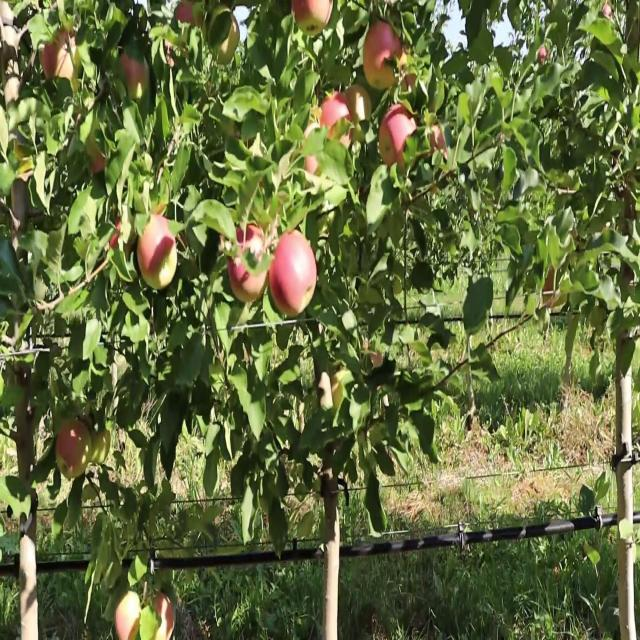apple: (272, 234, 319, 320), (228, 220, 269, 308), (136, 213, 178, 290), (364, 21, 403, 92), (380, 106, 418, 169), (40, 28, 80, 80), (320, 92, 353, 149), (56, 419, 89, 475), (48, 28, 81, 80), (212, 14, 241, 68), (120, 49, 151, 98), (296, 0, 332, 41), (56, 28, 82, 80), (116, 590, 143, 639), (292, 0, 328, 36), (40, 35, 67, 80), (320, 362, 345, 405), (348, 85, 373, 126), (396, 49, 418, 94), (152, 597, 176, 638), (89, 426, 112, 466), (424, 120, 447, 158), (88, 142, 107, 178), (292, 0, 313, 32), (364, 341, 384, 370), (544, 263, 556, 309), (108, 220, 124, 254), (4, 78, 22, 105), (176, 7, 199, 28), (536, 49, 551, 68), (4, 7, 15, 27)
